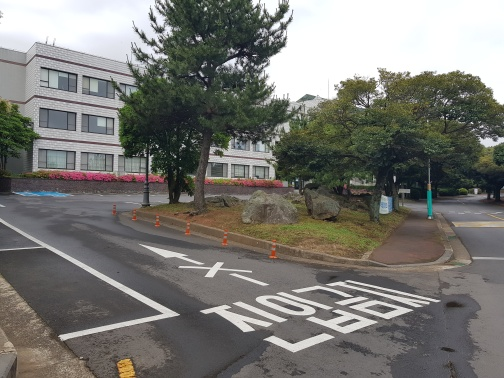Foreign Language Institute: (23, 40, 289, 187)
